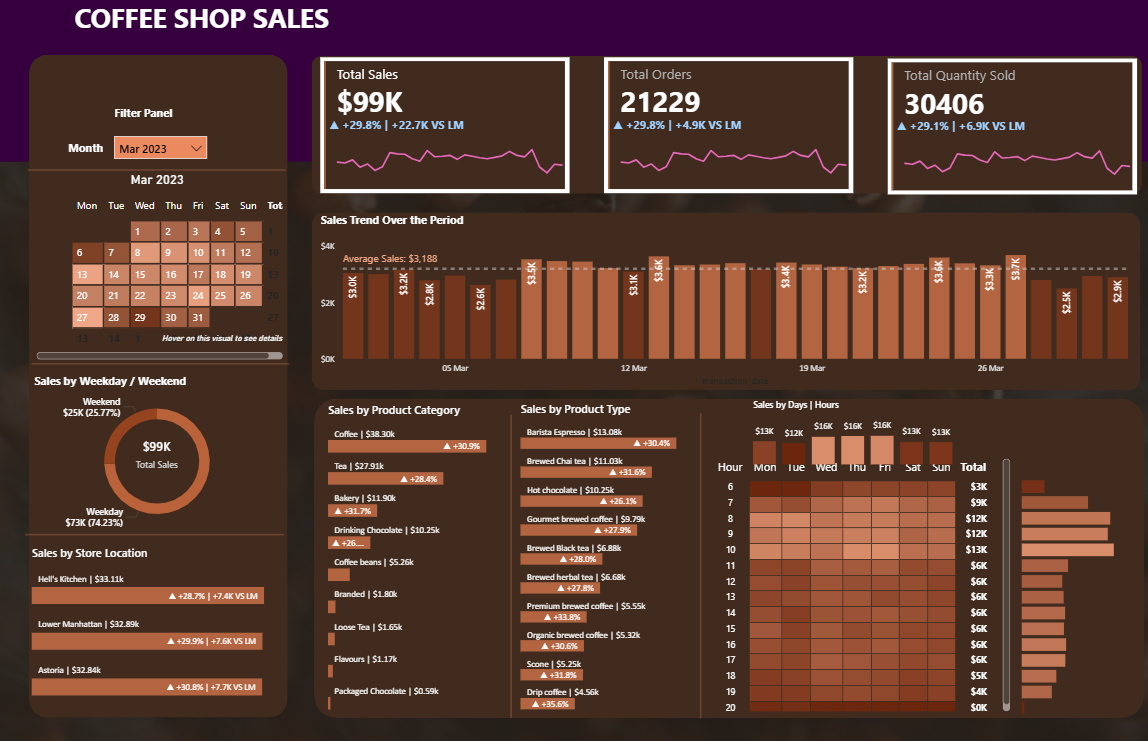

This screenshot's page, from the dashboard's own definition file:
{"tool":"powerbi","page":{"name":"Page 1","canvas":[1400,900],"ordinal":0},"visuals":[{"type":"cardVisual","fields":{"Data":["Transactions.Total Sales"]},"box":[393.3,73.3,300.8,164.2],"z":0,"group":"g1"},{"type":"cardVisual","fields":{"Data":["Transactions.Total Orders"]},"box":[736.4,74,300.8,164.2],"z":0,"group":"g2"},{"type":"cardVisual","fields":{"Data":["Transactions.Total Quantity Sold"]},"box":[1078.8,75.3,300.8,164.2],"z":0,"group":"g3"},{"type":"shape","box":[385.4,485.1,1001.3,385.4],"z":0},{"type":"shape","box":[0,0,1400,200],"z":1000},{"type":"lineChart","fields":{"Y":["Transactions.Total Sales"],"Category":["Date Table.Date Hierarchy.Date"]},"box":[399.1,145,300.8,85],"z":1000,"group":"g1"},{"type":"lineChart","fields":{"Y":["Transactions.Total Sales"],"Category":["Date Table.Date Hierarchy.Date"]},"box":[742.2,145.7,300.8,85],"z":1000,"group":"g2"},{"type":"lineChart","fields":{"Y":["Transactions.Total Sales"],"Category":["Date Table.Date Hierarchy.Date"]},"box":[1084.6,147,300.8,85],"z":1000,"group":"g3"},{"type":"shape","box":[42.9,73.2,310.2,647.4],"z":2000},{"type":"shape","box":[41.8,71.6,312.2,799.3],"z":3000},{"type":"shape","box":[383.5,72.5,1002.1,166.1],"z":4000},{"type":"textbox","box":[92.3,0,335.6,57.3],"z":5000},{"type":"slicer","fields":{"Values":["Date Table.Month Year"]},"box":[140,164.3,121.4,45.7],"z":6000},{"type":"group","id":"g1","title":"Group 1","box":[393.3,73.3,306.7,164.2],"z":7000},{"type":"group","id":"g2","title":"Group 1","box":[736.4,74,306,164],"z":8000},{"type":"group","id":"g3","title":"Group 1","box":[1078.8,75.3,305.7,163.9],"z":9000},{"type":"pivotTable","fields":{"Rows":["Date Table.Week Number"],"Columns":["Date Table.Day Name"],"Values":["Min(Date Table.Day Number)"]},"box":[46.7,236.7,306.7,206.7],"z":10000},{"type":"card","fields":{"Values":["Min(Date Table.Month Year)"]},"box":[117.4,199.4,159.5,46.5],"z":11000},{"type":"card","fields":{"Values":["Transactions.Foot Note"]},"box":[114.9,397.7,321.7,33.6],"z":12000},{"type":"shape","box":[46,431.2,311.1,24.7],"z":13000},{"type":"shape","box":[40.6,197.9,311.1,24.7],"z":14000},{"type":"donutChart","title":"Sales by Weekday / Weekend","fields":{"Category":["Date Table.Weekday / Weekend"],"Y":["Transactions.Total Sales"]},"box":[43.7,455.3,306.2,194.8],"z":15000},{"type":"card","fields":{"Values":["Transactions.Total Sales"]},"box":[145.1,515,103.4,75.6],"z":16000},{"type":"shape","box":[37.8,638.2,312.2,23.9],"z":17000},{"type":"clusteredBarChart","title":"Sales by Store Location","fields":{"Category":["Transactions.store_location"],"Y":["Transactions.Placeholder","Transactions.Total Sales"]},"box":[40,662,314,190],"z":18000},{"type":"shape","box":[383.7,260.5,1000.1,214.7],"z":19000},{"type":"clusteredBarChart","title":"Sales by Product Category","fields":{"Y":["Transactions.Placeholder","Transactions.Total Sales"],"Category":["Transactions.product_category"]},"box":[398.7,489.6,223.7,376.6],"z":20000},{"type":"columnChart","title":"Sales Trend Over the Period","fields":{"Category":["Transactions.transaction_date"],"Y":["Transactions.Total Sales"]},"box":[389.7,260.5,988.2,214.7],"z":21000},{"type":"shape","box":[596.7,505.6,53.3,365.6],"z":22000},{"type":"clusteredBarChart","title":"Sales by Product Type","fields":{"Y":["Transactions.Placeholder","Transactions.Total Sales"],"Category":["Transactions.product_type"]},"box":[630.3,489.1,222.7,377.8],"z":23000},{"type":"shape","box":[826.7,503.3,52.2,367.8],"z":24000},{"type":"pivotTable","fields":{"Rows":["Transactions.Hour"],"Columns":["Date Table.Day Name"],"Values":["Transactions.Total Sales"]},"box":[861.4,552.9,370,314.3],"z":25000},{"type":"barChart","fields":{"Category":["Transactions.Hour"],"Y":["Transactions.Total Sales"]},"box":[1235.7,571.4,142.9,300],"z":26000},{"type":"columnChart","title":" Sales by Days | Hours","fields":{"Y":["Transactions.Total Sales"],"Category":["Date Table.Day Name"]},"box":[911.4,485.7,251.4,85.7],"z":27000},{"type":"textbox","box":[84.3,168.6,64.3,35.7],"z":27001},{"type":"textbox","box":[140,127.1,101.4,28.6],"z":27002}]}

Visuals, with their boxes in screenshot pixels (x1, y1, x2, y2), scaled from the page's 1400x900 canvas onto the 1148x741 screenshot:
cardVisual - Transactions.Total Sales: box(323, 60, 569, 196)
cardVisual - Transactions.Total Orders: box(604, 61, 851, 196)
cardVisual - Transactions.Total Quantity Sold: box(885, 62, 1131, 197)
shape: box(316, 399, 1137, 717)
shape: box(0, 0, 1147, 165)
lineChart - Transactions.Total Sales x Date Table.Date Hierarchy.Date: box(327, 119, 574, 189)
lineChart - Transactions.Total Sales x Date Table.Date Hierarchy.Date: box(609, 120, 855, 190)
lineChart - Transactions.Total Sales x Date Table.Date Hierarchy.Date: box(889, 121, 1136, 191)
shape: box(35, 60, 290, 593)
shape: box(34, 59, 290, 717)
shape: box(314, 60, 1136, 196)
textbox: box(76, 0, 351, 47)
slicer - Date Table.Month Year: box(115, 135, 214, 173)
"Group 1" group: box(323, 60, 574, 196)
"Group 1" group: box(604, 61, 855, 196)
"Group 1" group: box(885, 62, 1135, 197)
pivotTable - Date Table.Week Number x Date Table.Day Name: box(38, 195, 290, 365)
card - Min(Date Table.Month Year): box(96, 164, 227, 202)
card - Transactions.Foot Note: box(94, 327, 358, 355)
shape: box(38, 355, 293, 375)
shape: box(33, 163, 288, 183)
"Sales by Weekday / Weekend" donutChart: box(36, 375, 287, 535)
card - Transactions.Total Sales: box(119, 424, 204, 486)
shape: box(31, 525, 287, 545)
"Sales by Store Location" clusteredBarChart: box(33, 545, 290, 701)
shape: box(315, 214, 1135, 391)
"Sales by Product Category" clusteredBarChart: box(327, 403, 510, 713)
"Sales Trend Over the Period" columnChart: box(320, 214, 1130, 391)
shape: box(489, 416, 533, 717)
"Sales by Product Type" clusteredBarChart: box(517, 403, 699, 714)
shape: box(678, 414, 721, 717)
pivotTable - Transactions.Hour x Date Table.Day Name: box(706, 455, 1010, 714)
barChart - Transactions.Hour x Transactions.Total Sales: box(1013, 470, 1130, 717)
" Sales by Days | Hours" columnChart: box(747, 400, 953, 470)
textbox: box(69, 139, 122, 168)
textbox: box(115, 105, 198, 128)
